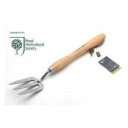Fork: (13, 27, 128, 102)
